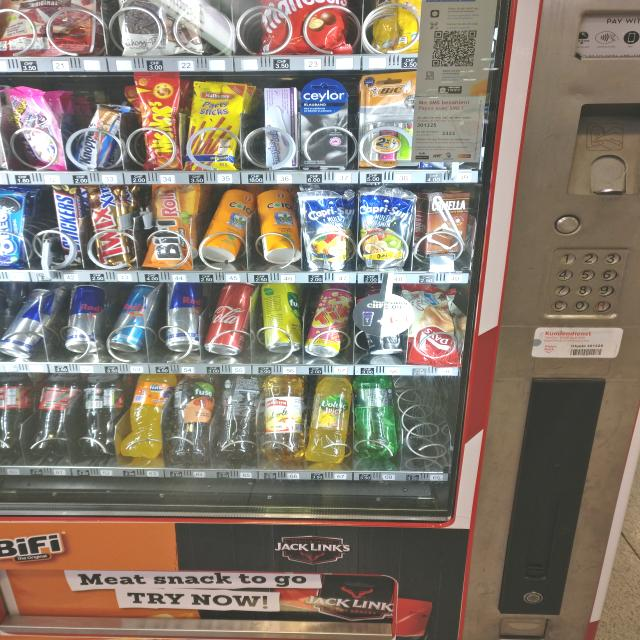7days_croissantschoko_packung_80_1_0000000000003: (400, 283, 464, 362)
bifi_roll__50__4251097402635: (146, 182, 196, 265)
c-swiss_dosenabisicetea__33__9120025930135: (198, 190, 256, 263), (254, 188, 308, 265)
caferoyal_classicmacchiato__33__7617014164487: (355, 283, 404, 355)
caprisun_multivitamin__20__4000177605004: (356, 186, 411, 269), (299, 188, 355, 266)
coke__dose_33__54491472: (204, 282, 256, 356)
coke__flasche_50__54491472: (26, 372, 80, 448), (84, 372, 121, 454), (0, 372, 27, 452)
comella_schokodrink__33__7613100037253: (417, 187, 470, 255)
fanta___50__40822938: (120, 369, 176, 458)
fini_jellykisses_packung_80_1_8410525116704: (2, 84, 70, 171)
fuse_lemon__50__5449000235947: (216, 372, 260, 460)
fuse_lemon_dose_33__5449000235947: (257, 282, 305, 350)
fuse_peach__50__5449000236623: (167, 376, 220, 461)
knoppers_riegel____4035800488808: (74, 101, 132, 174)
lorenz_nicnacs__40__4018077798818: (132, 73, 182, 168)
malburner_partysticks__40__7610200279682: (184, 80, 245, 167)
maltesers___100__5000159023061: (256, 0, 352, 56)
oreo___66__84100733: (0, 188, 32, 264)
ramseier_schorle__50__7610057012456: (258, 372, 308, 461)
redbull___33__90162909: (104, 281, 160, 353), (0, 286, 48, 359), (164, 280, 206, 351), (62, 284, 104, 352)
snickers___50__5000159461122: (48, 183, 87, 265)
tiki_himbeer_brause__50__00000000009342: (304, 285, 357, 360)
twix___50__5000159459228: (84, 184, 133, 266)
valser_classic__50__76404160: (350, 372, 402, 458)
volvic_pinapple__50__305764335648: (304, 373, 355, 466)
